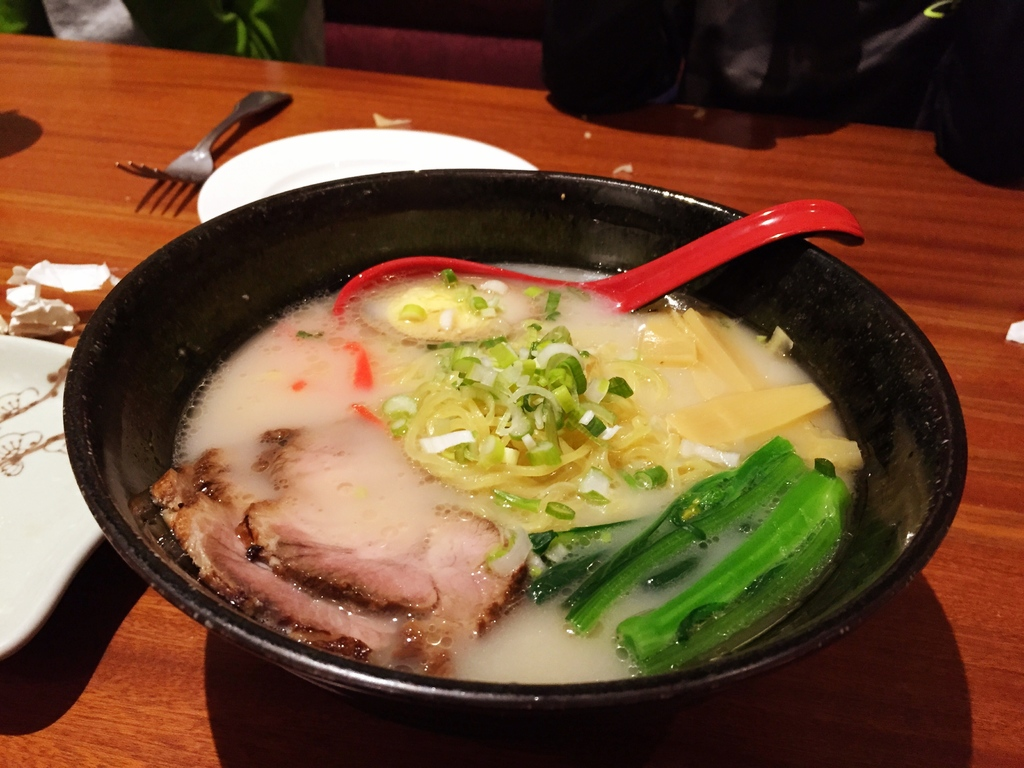person: (2, 0, 327, 67)
